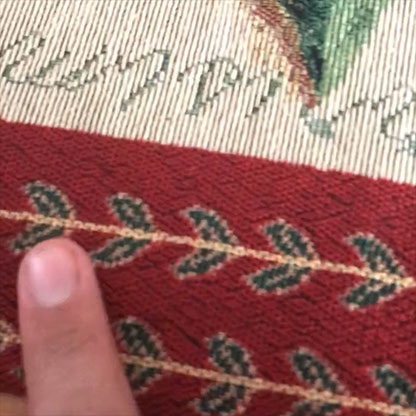fingertip: (9, 233, 119, 327)
